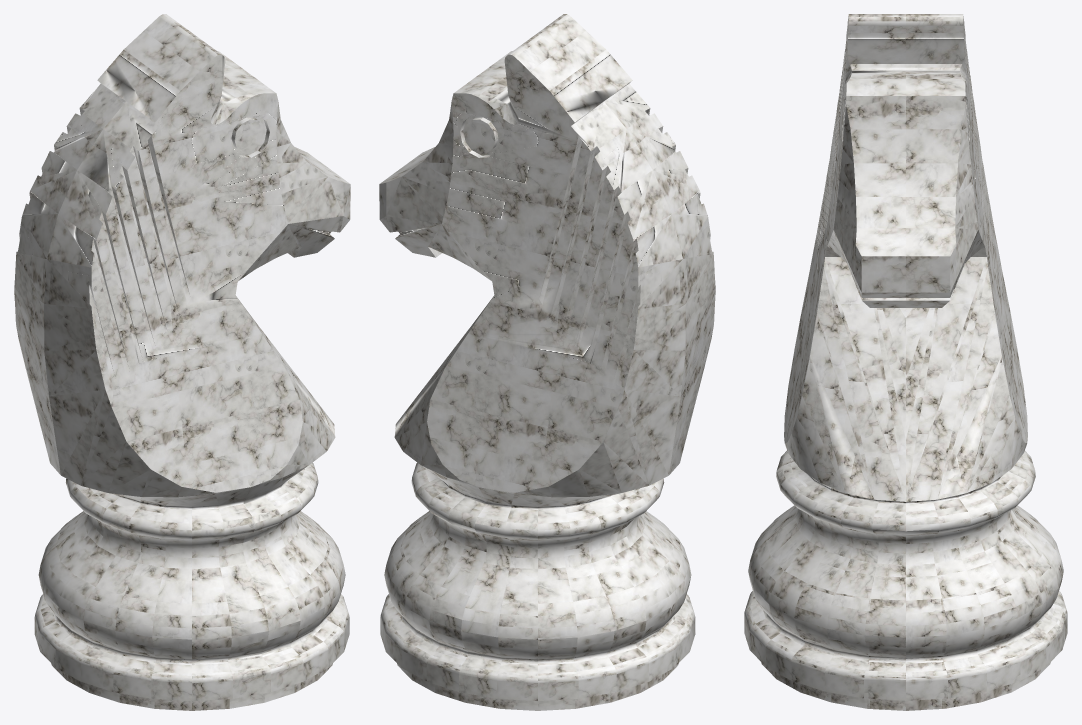
The model's file is white_knight.fbx.
3 views of the same model, side by side, from view 1: azimuth 30°, elevation 25°; view 2: azimuth 150°, elevation 25°; view 3: azimuth 270°, elevation 25° (orthographic). The views are drawn at different scales.
Visible parts, largest first — view 1: Model; view 2: Model; view 3: Model.
Part boxes in pixels (x1,y1,x2,y2): Model: [14, 14, 350, 710]; Model: [379, 14, 715, 710]; Model: [744, 14, 1067, 710].
Bounding box in the file's own units: 12.82 × 26.45 × 12.26.
Materials: 1 (1 with a texture image).
